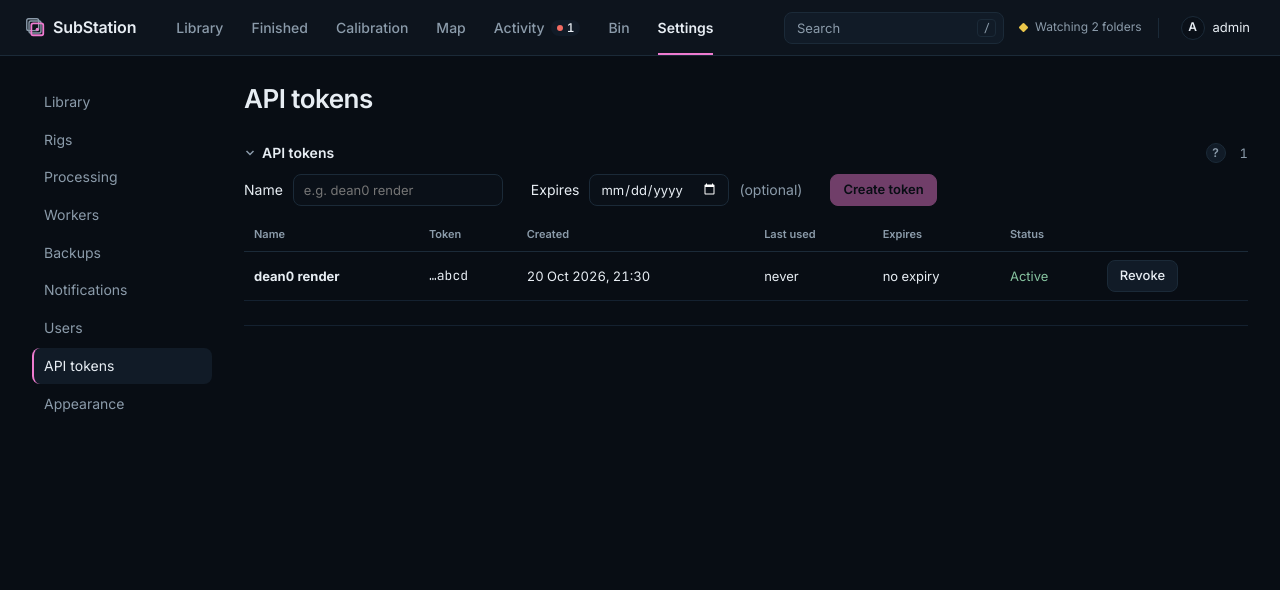
Settings → API tokens (spec 020) › shows a new token once, with how to use it, until it is put away
The width and height of the screenshot is (1280, 590).
Check: the text "dean0 render" is shown, box [254,268,340,284]
Type "renderer" into the field labelled "Name".
click(398, 190); type("renderer")  # box [293,174,503,206]
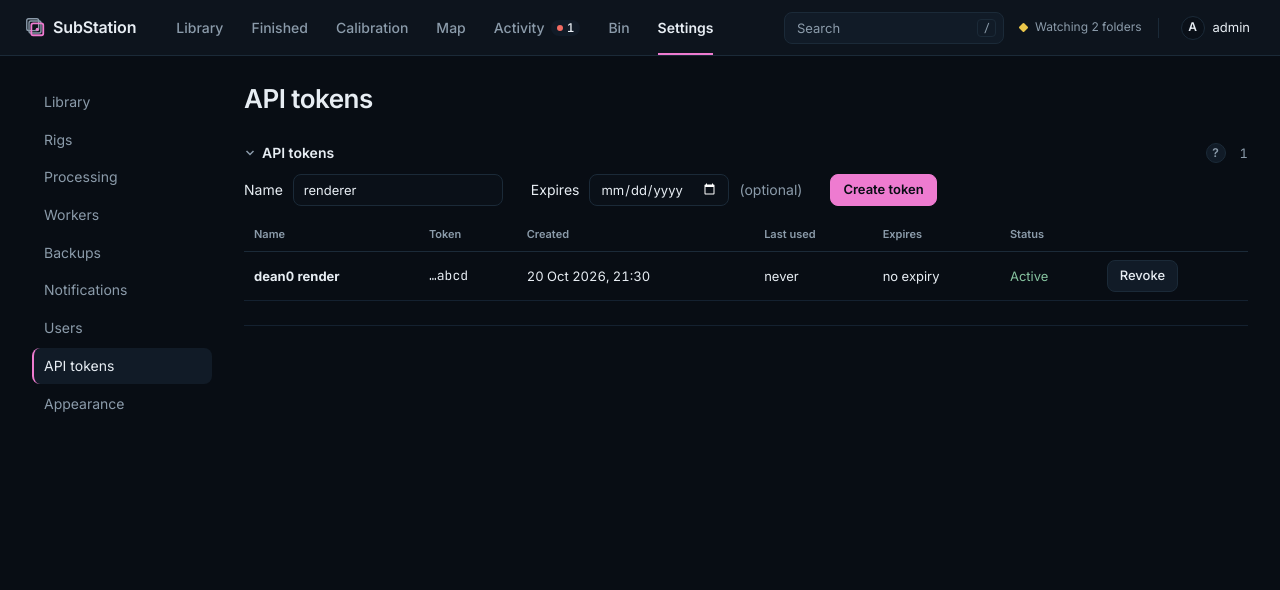
Click the button "Create token".
click(884, 190)  # box [830,174,937,206]
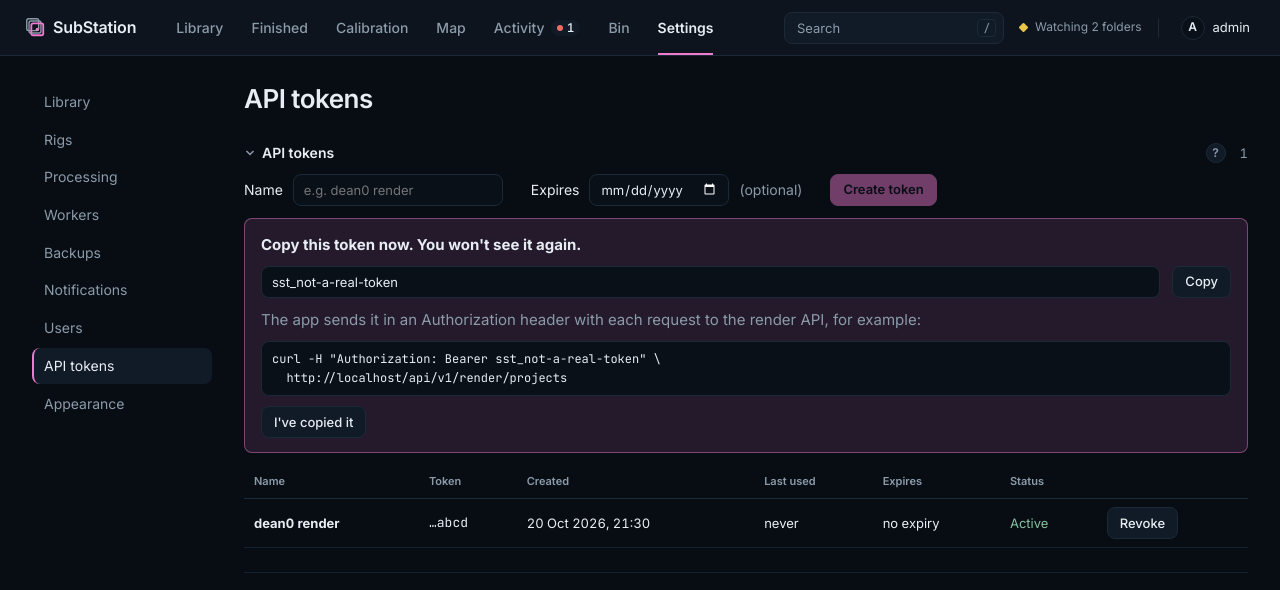
Check: the element named "New token" shows "Copy this token now. You won't see it again.", box [261,235,581,254]
Check: the field named "Token for renderer" holds "sst_not-a-real-token", box [261,266,1160,298]
Check: the element named "New token" shows "/api/v1/render/projects", box [272,351,661,386]
Click the button "I've copied it".
click(314, 422)  # box [261,406,366,438]
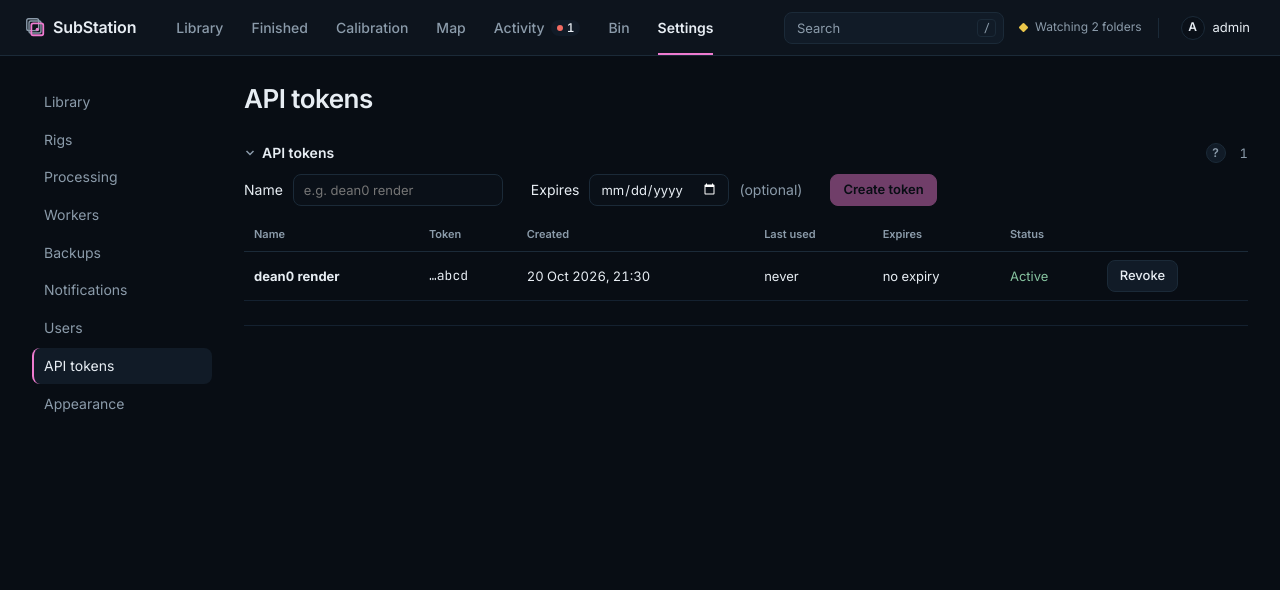
Check: the text showing "sst_not-a-real-token" is gone
Check: the text "sst_not-a-real-token" is gone
